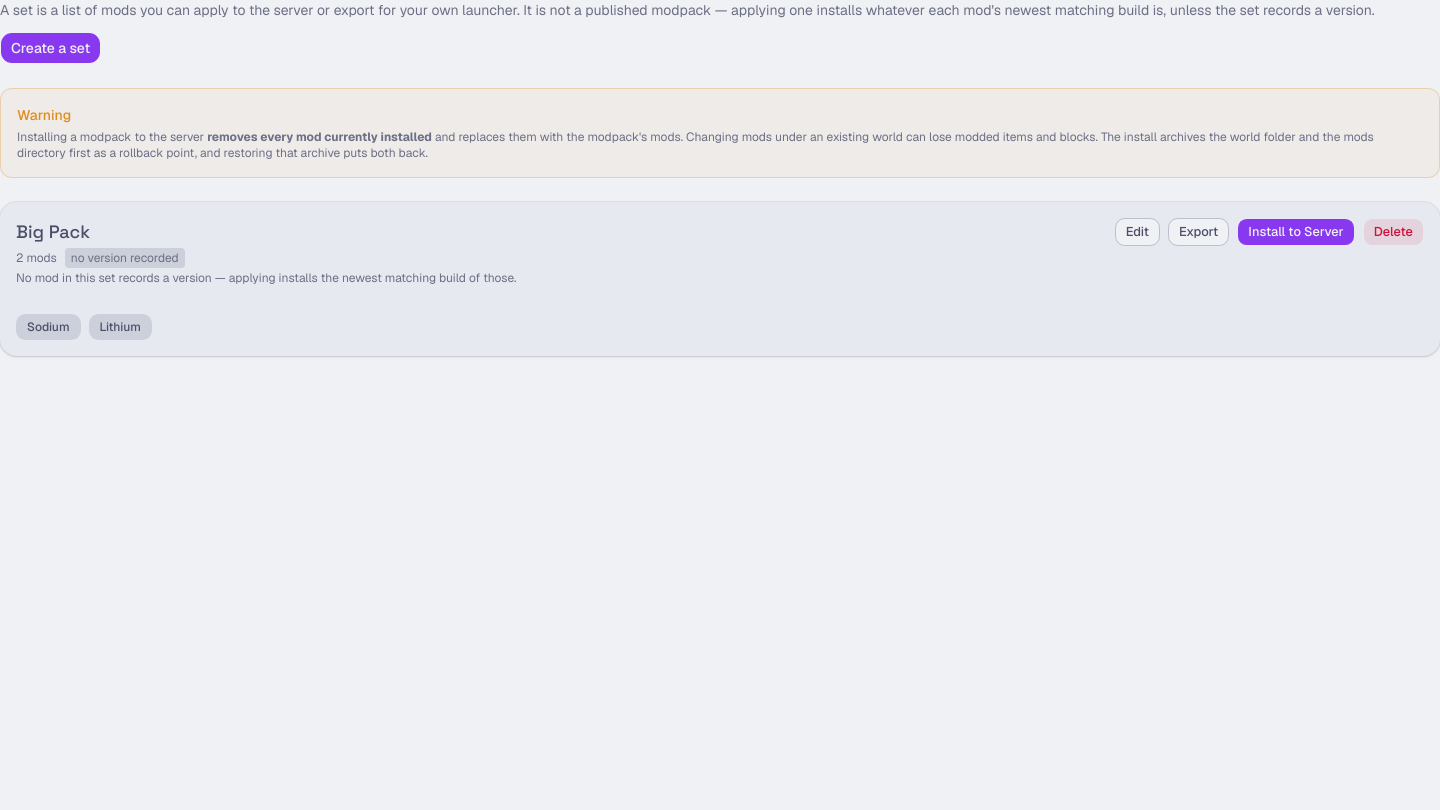
it: the report opens for an apply whose only news is the skips › opens on the all-client-only refusal and shows its sentence
The width and height of the screenshot is (1440, 810).
Check: the text "Big Pack" is shown, box x1=16 y1=220 x2=90 y2=243
Click the button "Install to Server": (1296,232) x1=1237 y1=218 x2=1355 y2=246
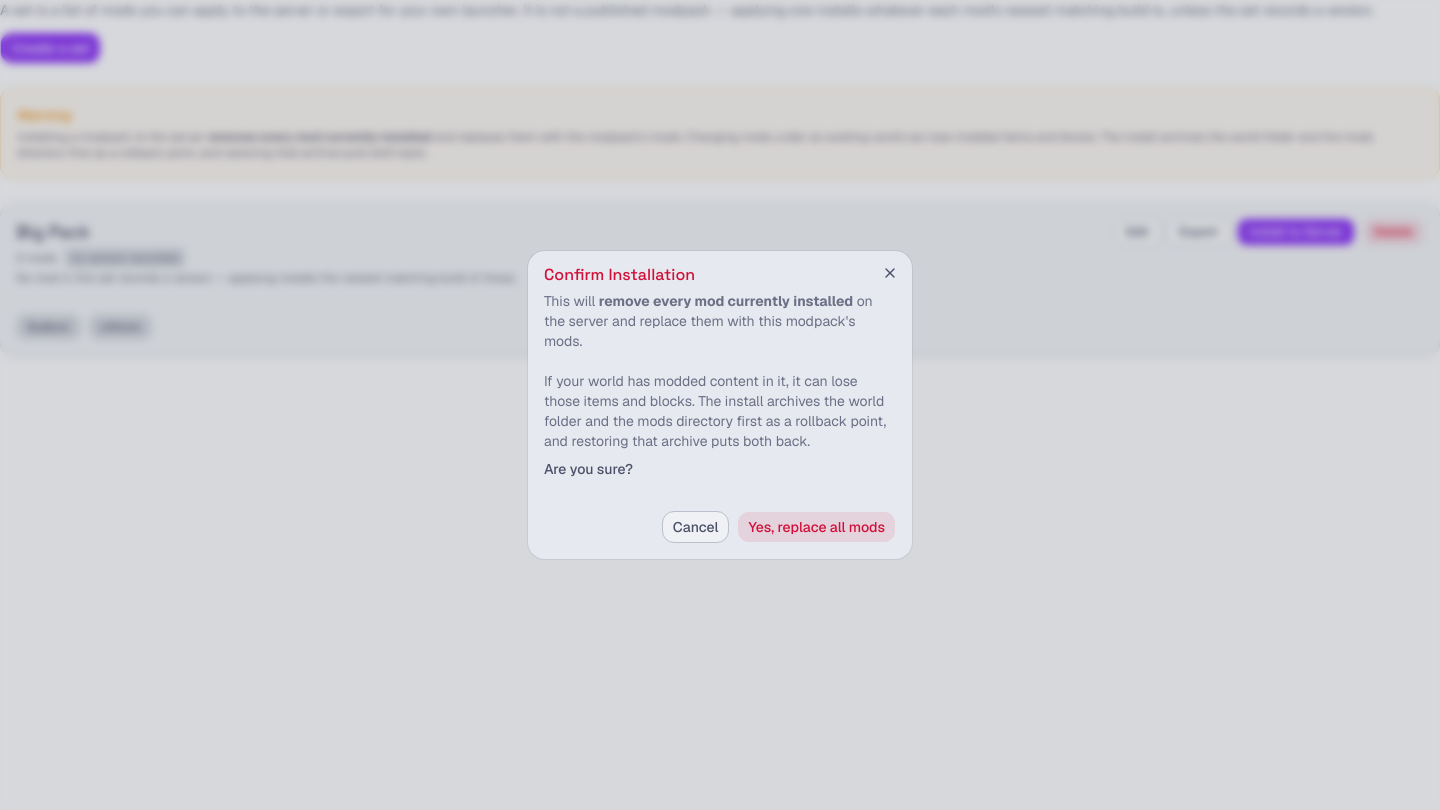
Check: the heading "Confirm Installation" is shown, box x1=544 y1=264 x2=695 y2=285
Click the button "Yes, replace all mods": (817,527) x1=737 y1=511 x2=896 y2=543
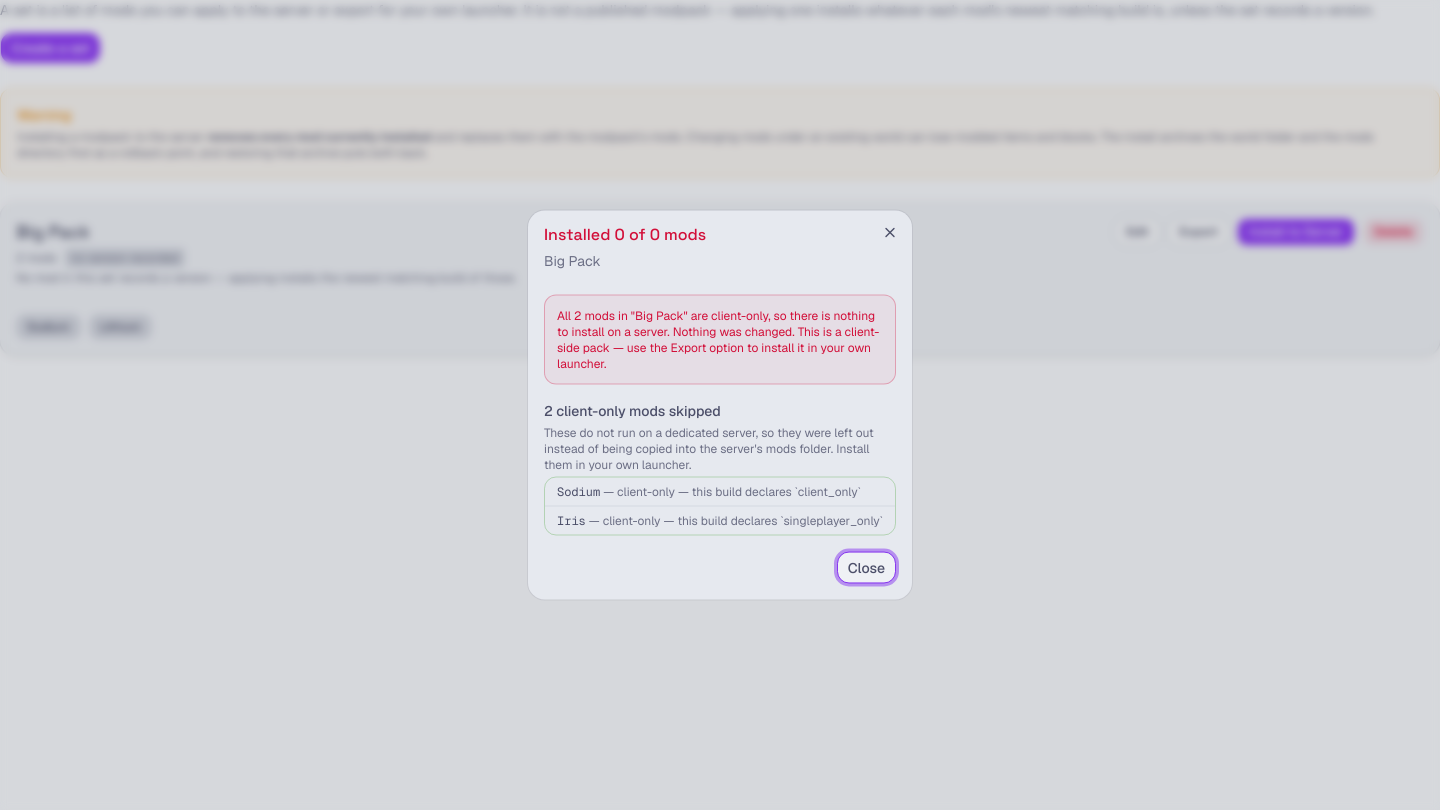
Check: the heading "Installed 0 of 0 mods" is shown, box x1=544 y1=224 x2=706 y2=244
Check: the text "use the Export option" is shown, box x1=557 y1=308 x2=879 y2=372
Check: the text "2 client-only mods skipped" is shown, box x1=544 y1=402 x2=721 y2=420
